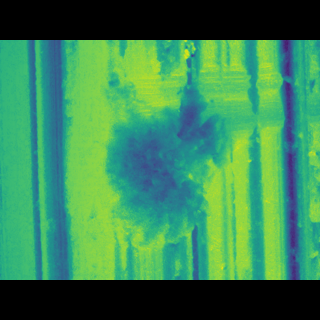Loch: (84, 81, 292, 231)
